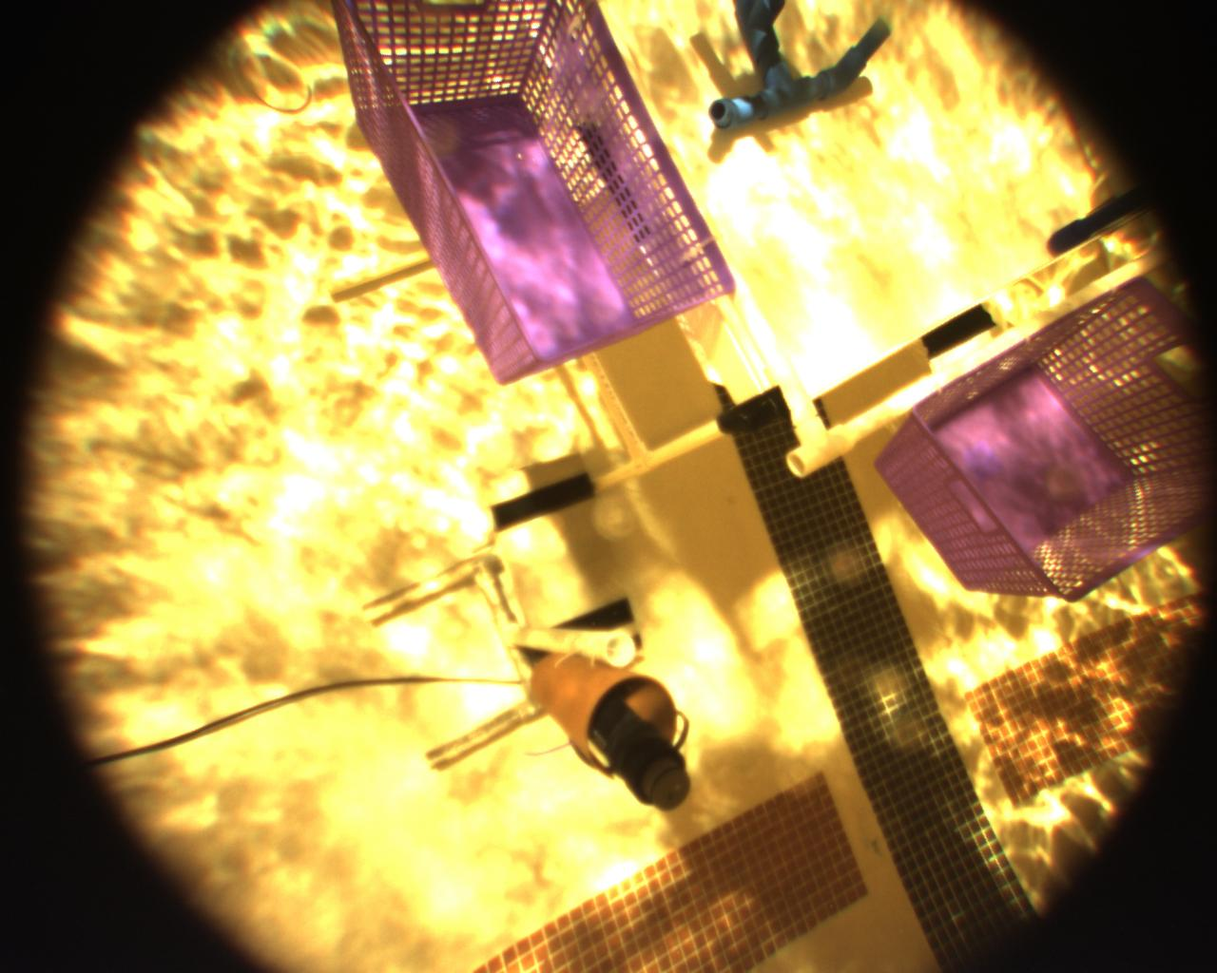coral: (673, 0, 905, 133)
coral-box-top: (560, 0, 1174, 472)
